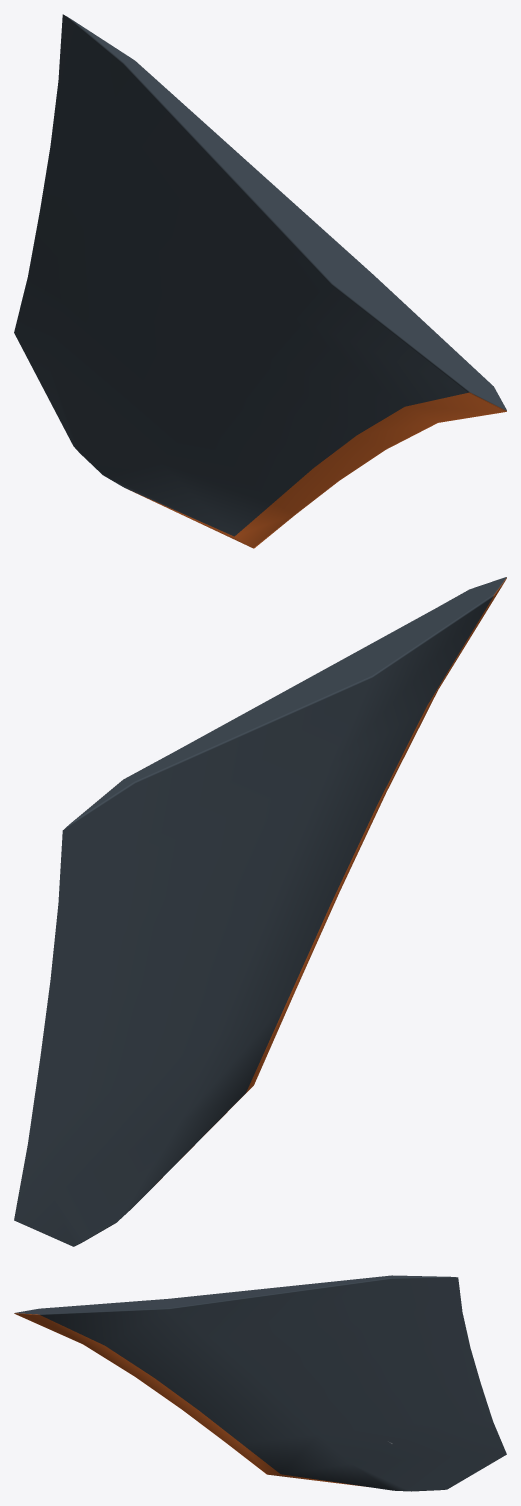
Rendered from bastion_tail_compact.fbx.
3 views of the same model, one above another, from view 1: azimuth 30°, elevation 25°; view 2: azimuth 150°, elevation 25°; view 3: azimuth 270°, elevation 25° (orthographic). The views are drawn at different scales.
Visible parts, largest first — view 1: Tail_Compact; view 2: Tail_Compact; view 3: Tail_Compact.
Part boxes in pixels (x1,y1,x2,y2): Tail_Compact: [14, 14, 506, 548]; Tail_Compact: [14, 577, 506, 1246]; Tail_Compact: [14, 1275, 506, 1491].
Bounding box in the file's own units: 4.49 × 44 × 92.15.
